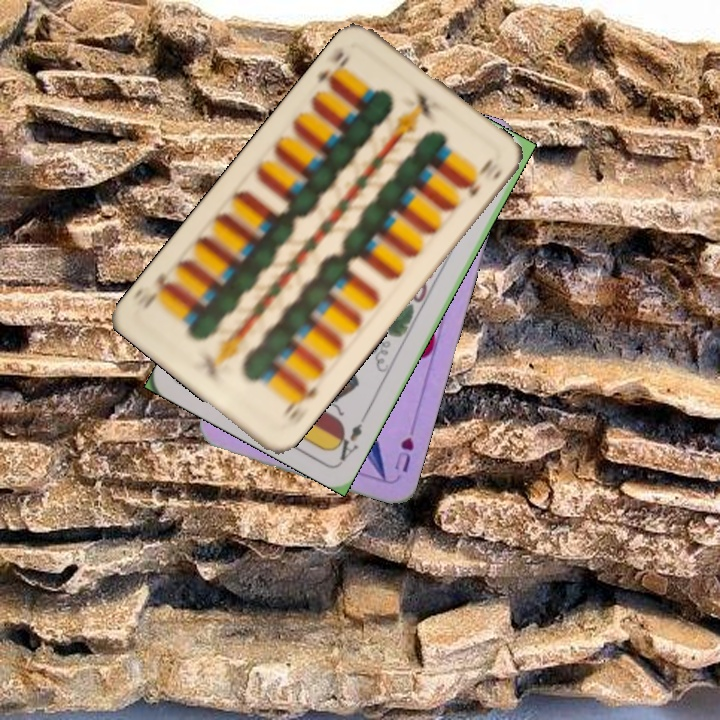E10: (312, 47, 353, 92), (279, 377, 320, 421)
EA: (329, 410, 369, 464)
HU: (390, 433, 417, 475)
